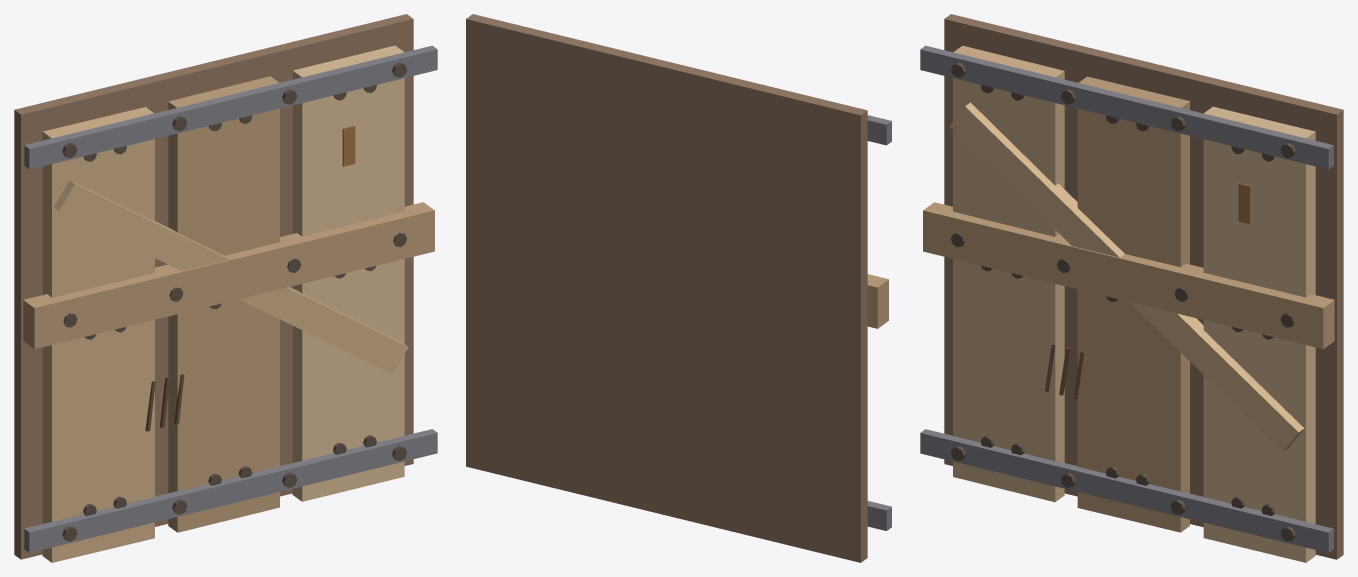
The model's file is reinf-wall.fbx.
3 views of the same model, side by side, from view 1: azimuth 30°, elevation 25°; view 2: azimuth 150°, elevation 25°; view 3: azimuth 330°, elevation 25° (orthographic).
Visible parts, largest first — view 1: ReinfWall; view 2: ReinfWall; view 3: ReinfWall.
Boxes of the visible parts, box(x1,y1,x2,y2) form: ReinfWall: box(14, 14, 437, 562); ReinfWall: box(466, 14, 891, 562); ReinfWall: box(920, 14, 1343, 562).
Bounding box in the file's own units: 6.24 × 6.5 × 0.67.
